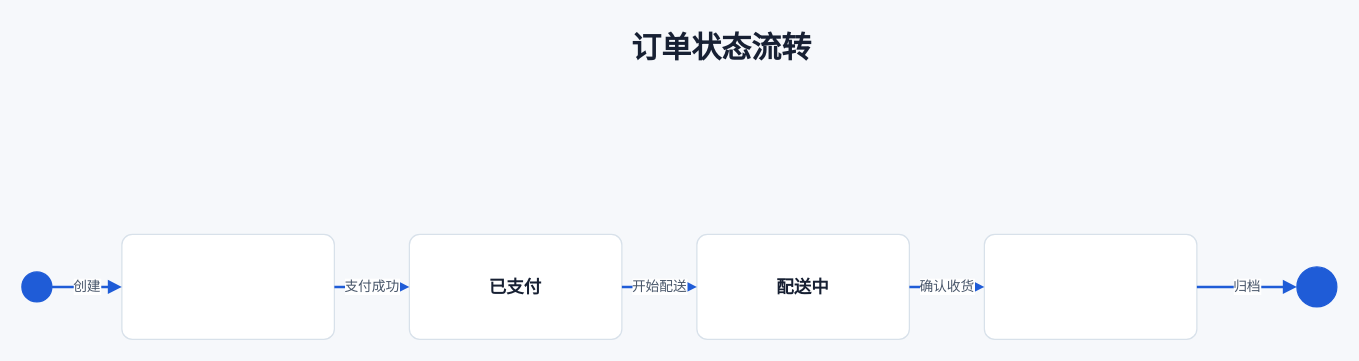
This 1359x361 diagram has some shape labels left out. The shapes that lost their labels are listed below. From the top down, each one's centre as x and y in pixels, then its label:
At point 227,286: "待支付".
At point 1090,286: "已完成".
